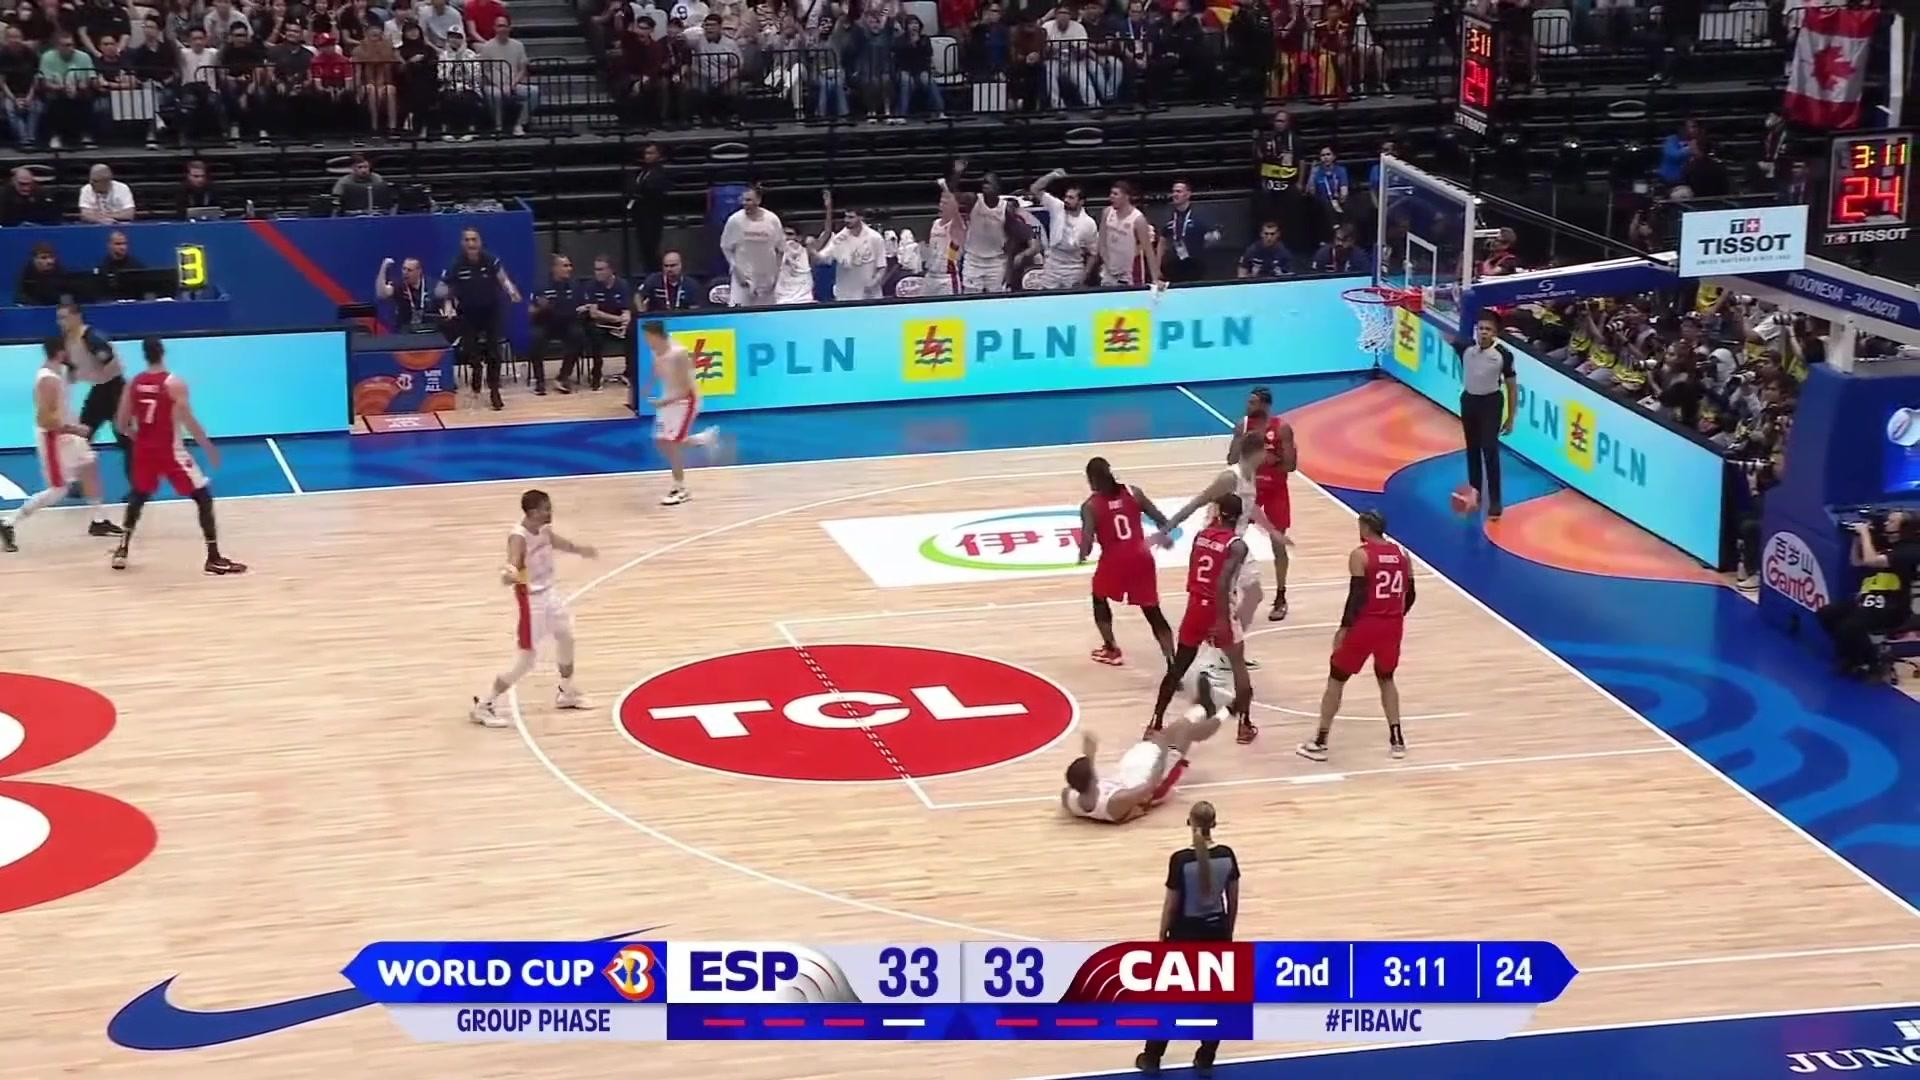foul: (1046, 529, 1282, 820)
